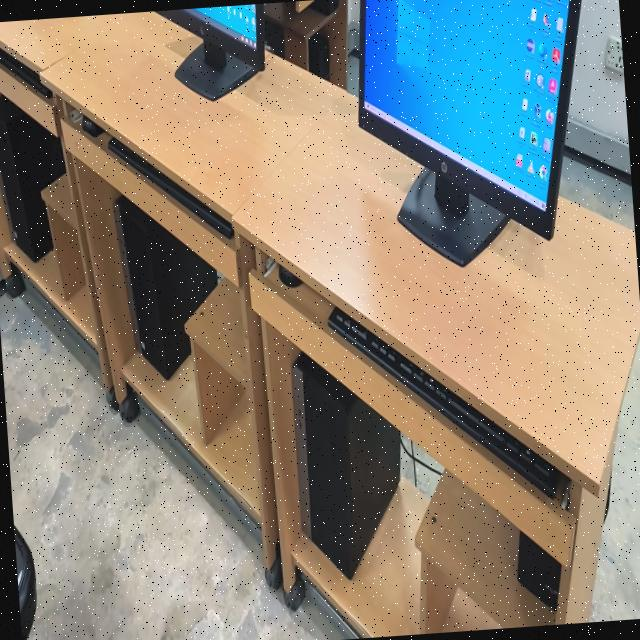Cpu: (291, 353, 401, 578), (114, 196, 217, 378), (0, 97, 65, 261)
Keyboard: (328, 308, 565, 496), (108, 138, 233, 238), (0, 48, 52, 99)
Monitor: (359, 0, 581, 266), (157, 3, 264, 100)
Mouse: (278, 265, 302, 287), (82, 115, 105, 136)
